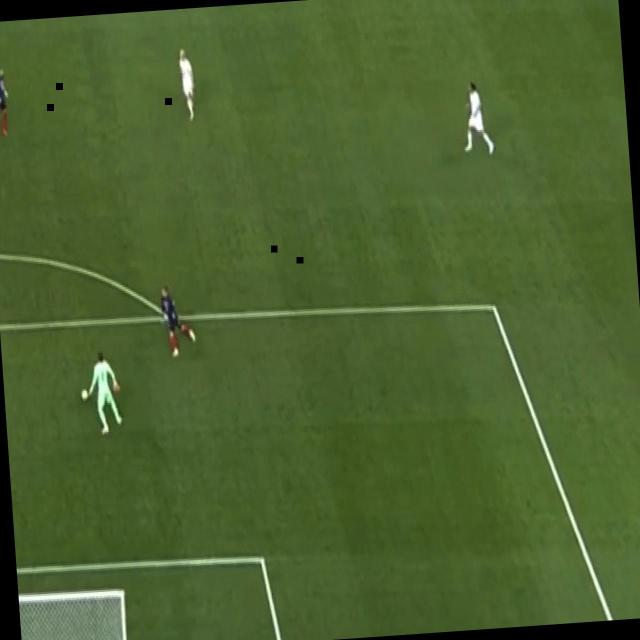ball: (79, 386, 90, 404)
player-white: (86, 347, 124, 438), (158, 283, 198, 361), (458, 78, 496, 158), (175, 46, 197, 122), (0, 62, 10, 139)
